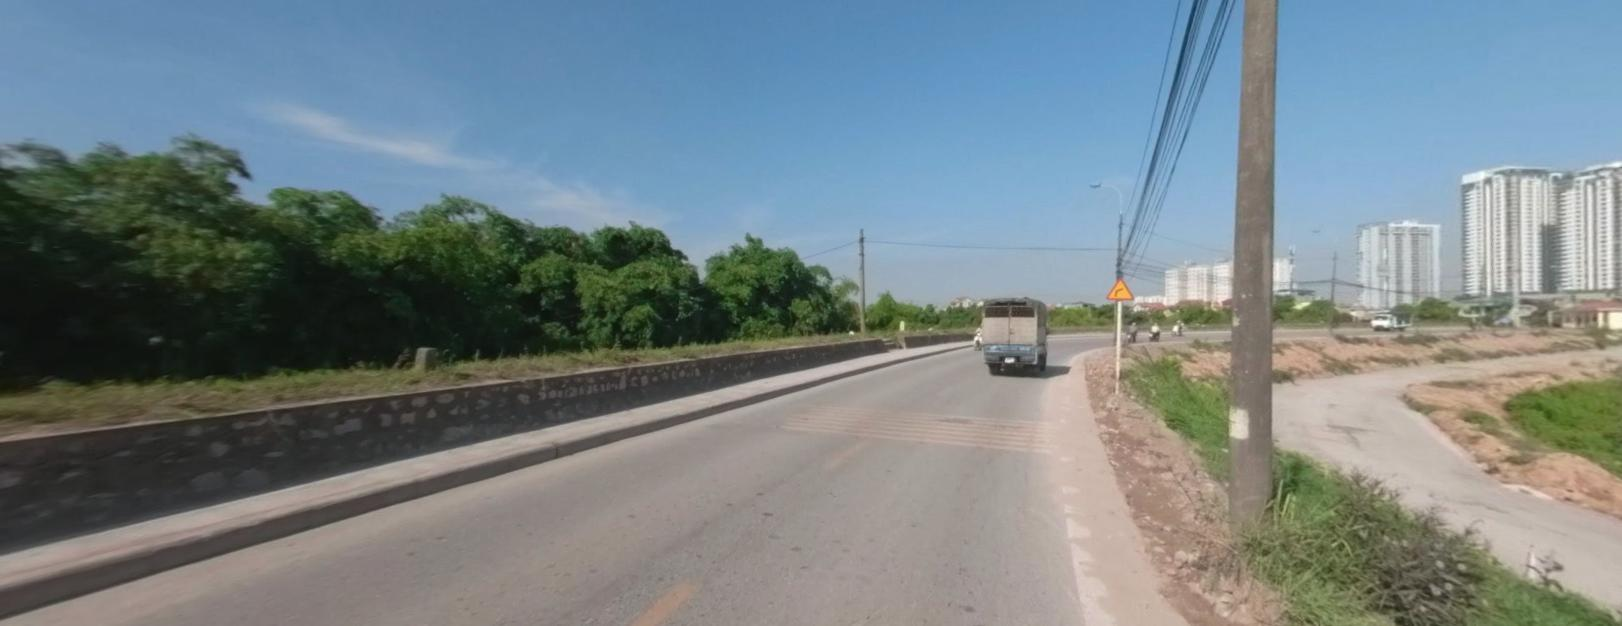Nguy hiem: (1105, 276, 1135, 298)
